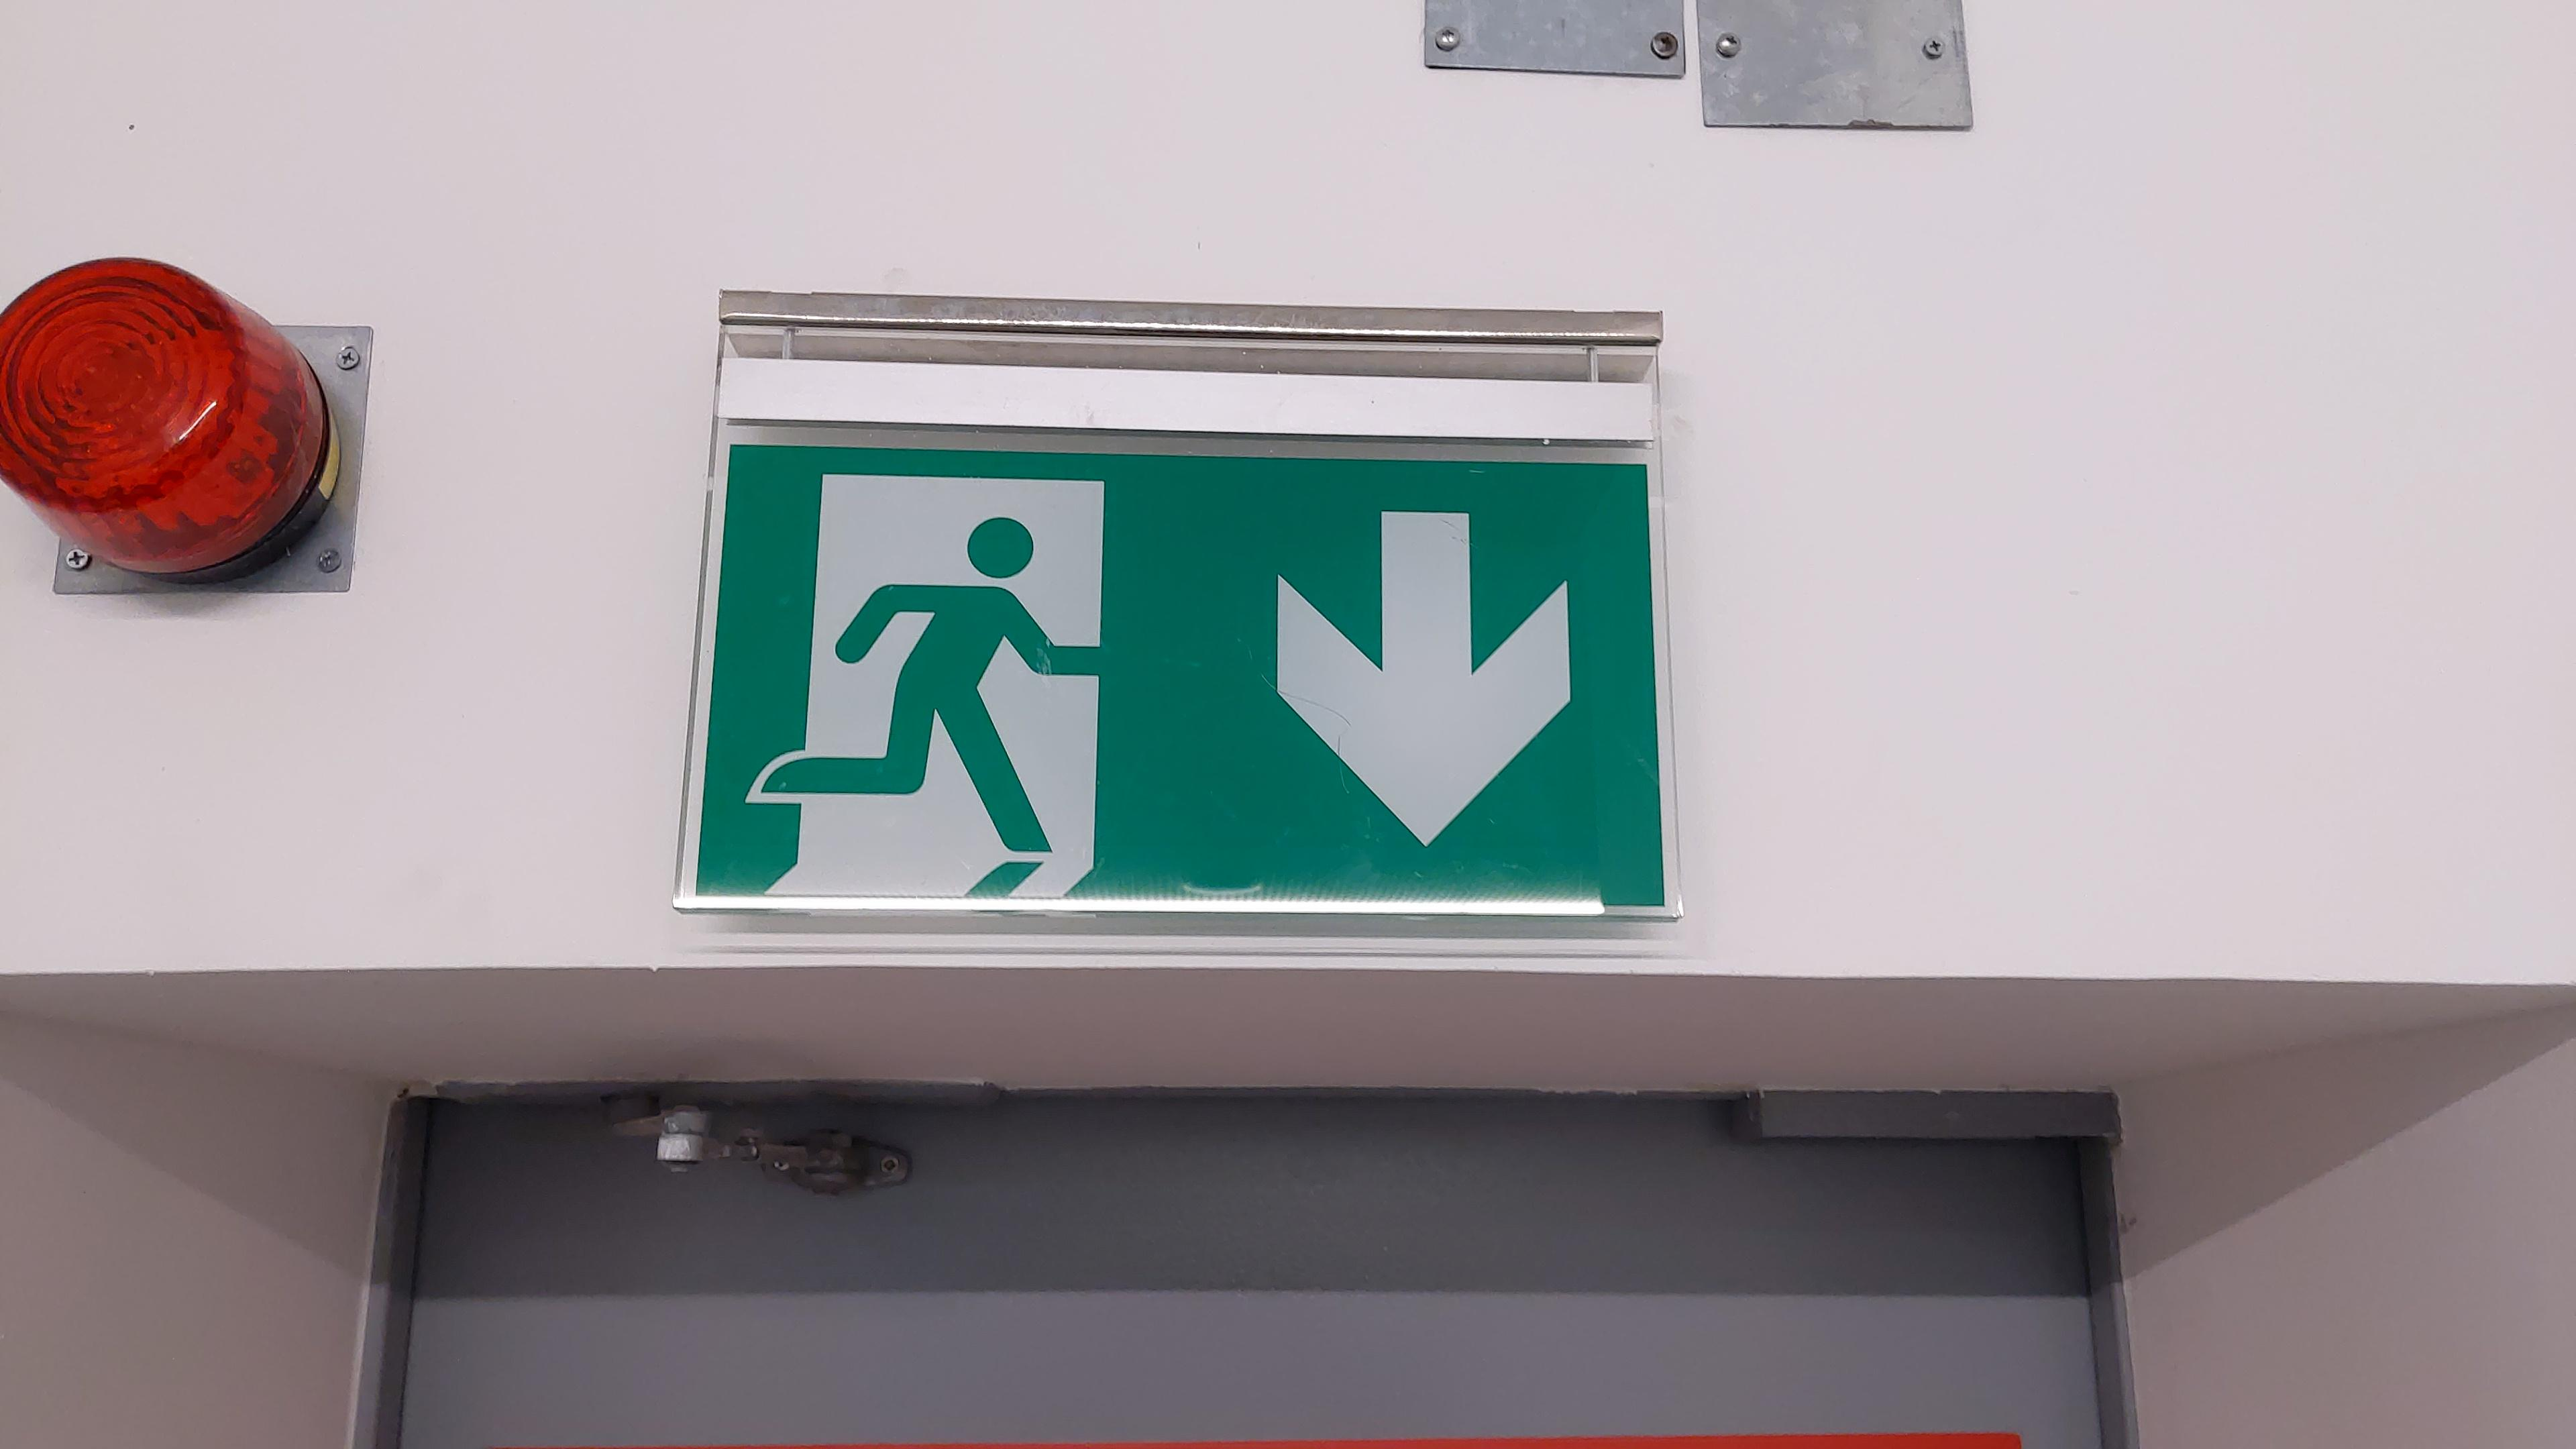emergency down arrow: (1260, 494, 1583, 847)
emergency exit: (741, 465, 1111, 904)
